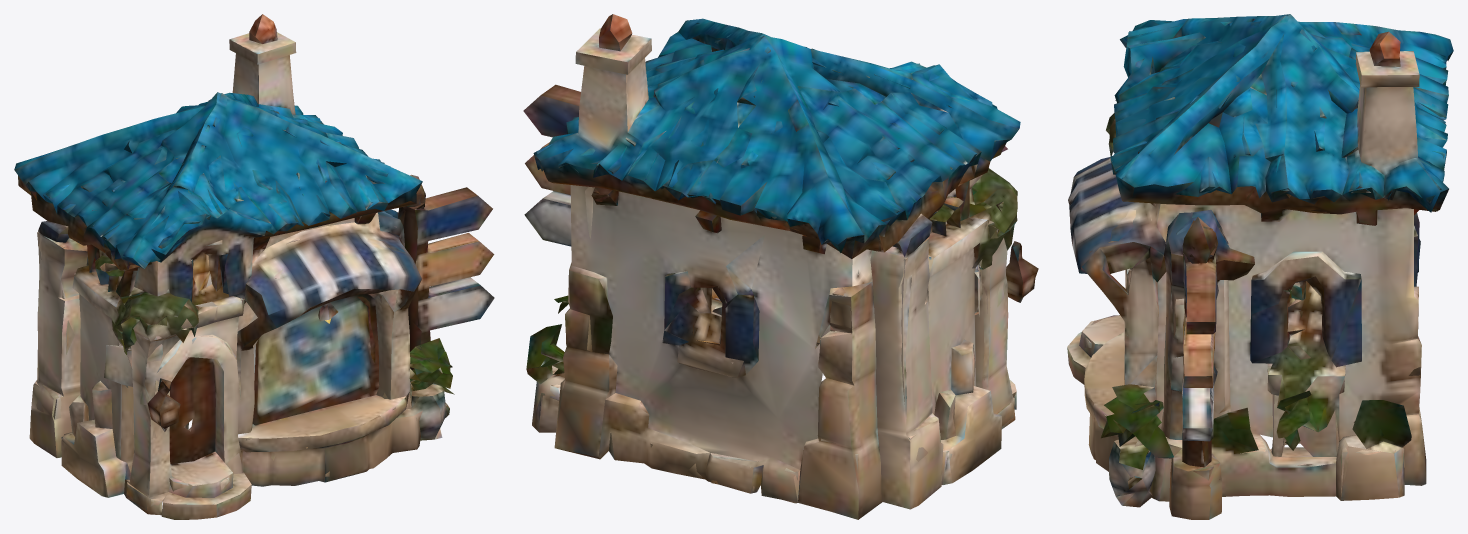
3 renders of one model, left to right at view 1: azimuth 30°, elevation 25°; view 2: azimuth 150°, elevation 25°; view 3: azimuth 270°, elevation 25°, orthographic. The views are drawn at different scales.
Visible parts, largest first — view 1: harbor__junction_hub__neural_lod; view 2: harbor__junction_hub__neural_lod; view 3: harbor__junction_hub__neural_lod.
Part boxes in pixels (left/top/right/bottom): harbor__junction_hub__neural_lod: left=14, top=14, right=494, bottom=519; harbor__junction_hub__neural_lod: left=523, top=14, right=1038, bottom=519; harbor__junction_hub__neural_lod: left=1067, top=14, right=1453, bottom=519.
Bounding box in the file's own units: 0.999 × 0.8932 × 0.7114.
Materials: 1 (1 with a texture image).
